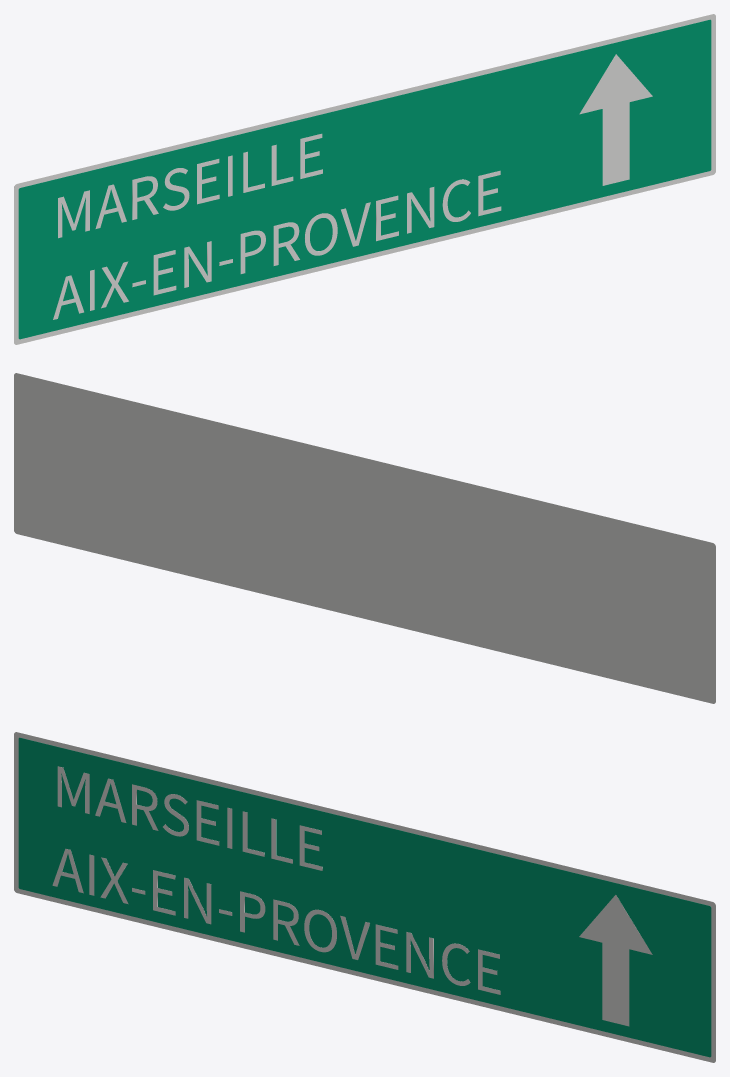
3 renders of one model, top to bottom at view 1: azimuth 30°, elevation 25°; view 2: azimuth 150°, elevation 25°; view 3: azimuth 330°, elevation 25°, orthographic.
Parts seen in each view (by area): view 1: Dv43d_reg01, Dv43d_lis00, Dv43d_txt04, Dv43d_fl02, Dv43d_txt03; view 2: Dv43d_lis00; view 3: Dv43d_reg01, Dv43d_lis00, Dv43d_txt04, Dv43d_fl02, Dv43d_txt03.
Part boxes in pixels (x1,y1,x2,y2): Dv43d_reg01: [18, 19, 711, 339]; Dv43d_lis00: [14, 14, 715, 344]; Dv43d_txt04: [53, 170, 501, 319]; Dv43d_fl02: [579, 54, 652, 185]; Dv43d_txt03: [58, 133, 322, 238]; Dv43d_lis00: [14, 373, 715, 703]; Dv43d_reg01: [18, 737, 711, 1057]; Dv43d_lis00: [14, 732, 715, 1062]; Dv43d_txt04: [52, 848, 500, 994]; Dv43d_fl02: [579, 895, 652, 1026]; Dv43d_txt03: [57, 766, 322, 870].
Bounding box in the file's own units: 2.28 × 0.5 × 0.002.
